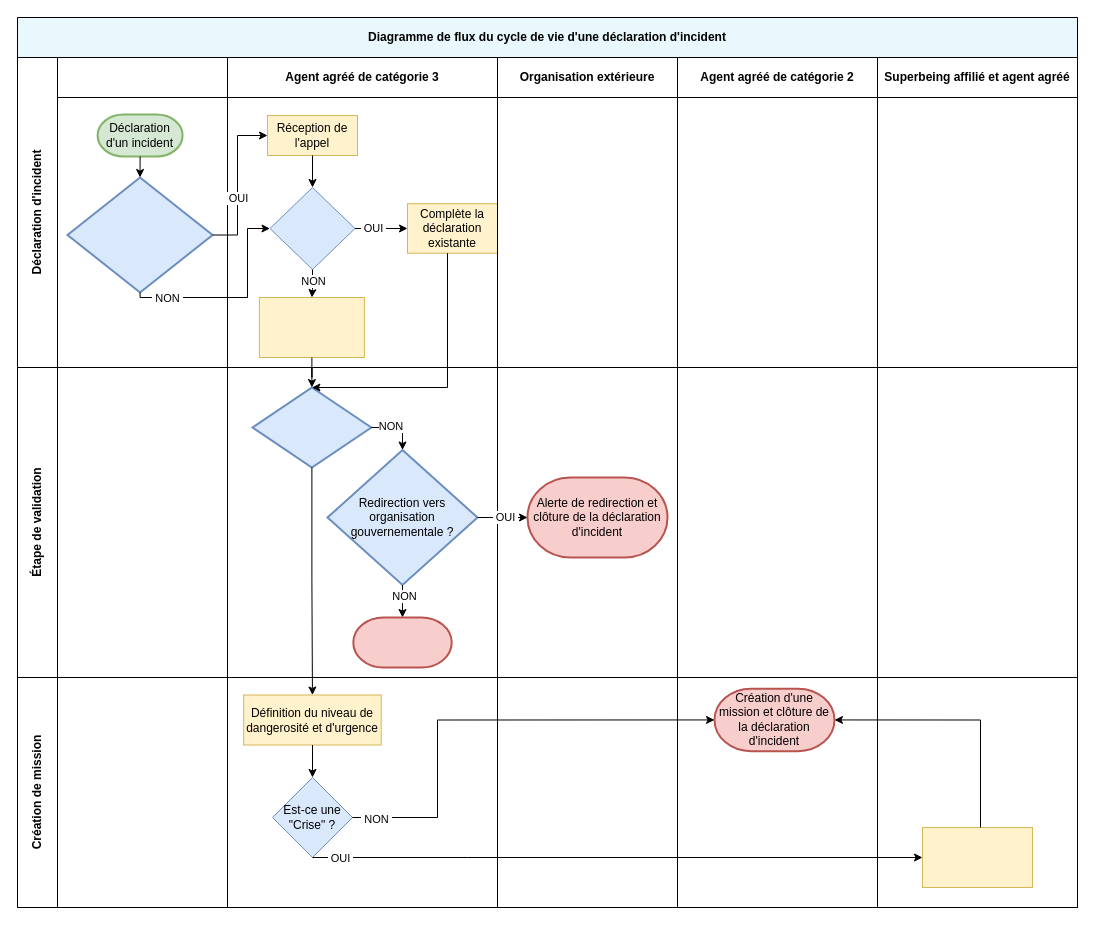
This 1095x925 diagram has some shape labels left out. The shapes that lost their labels are listed below. From the top down, each one's box as (x1, y1, x2, y2) in pixels, then its label:
(56, 56, 228, 368): Civil
(269, 186, 355, 270): Incident existant ?
(66, 176, 213, 293): Déclaration par appel téléphonique ?
(258, 296, 364, 358): Création de la déclaration dans le logiciel
(251, 386, 372, 468): Validation de la déclaration ?
(352, 616, 452, 668): Clôture de la déclaration d'incident
(922, 826, 1032, 888): Génère une alerte spécial "Crise"
